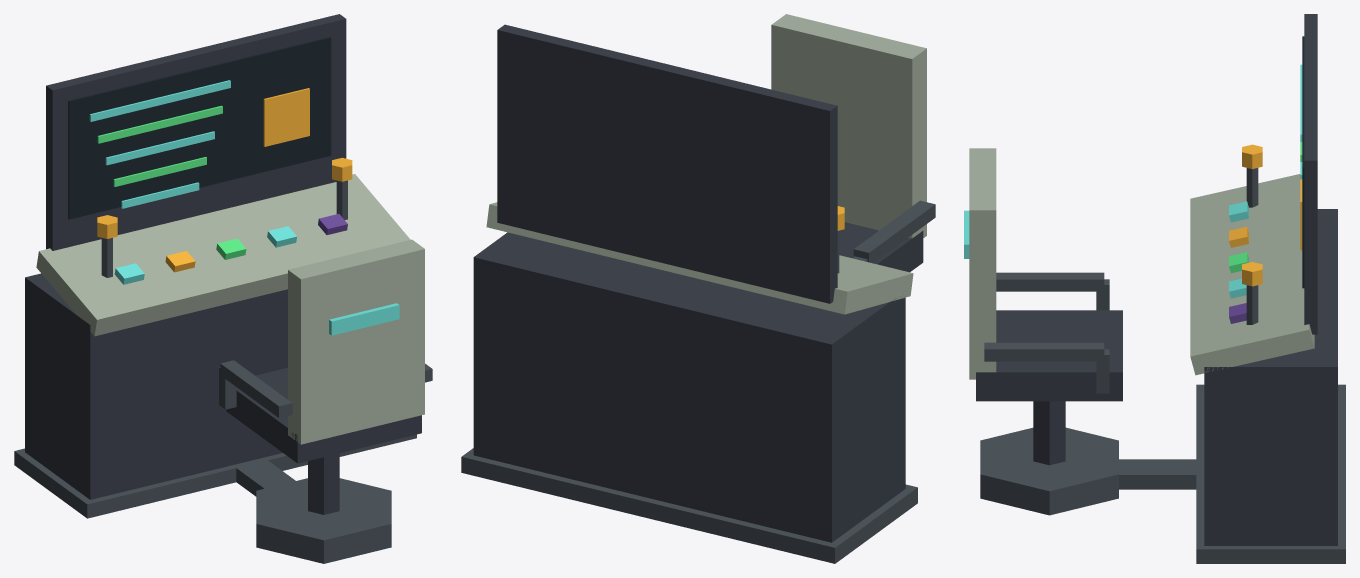
File: GV_ShipHelm_01.glb
3 views of the same model, side by side, from view 1: azimuth 30°, elevation 25°; view 2: azimuth 150°, elevation 25°; view 3: azimuth 270°, elevation 25° (orthographic). The views are drawn at different scales.
Parts seen in each view (by area): view 1: GV_ShipHelm_01; view 2: GV_ShipHelm_01; view 3: GV_ShipHelm_01.
Part boxes in pixels (<box>): GV_ShipHelm_01: <box>14,14,432,563</box>; GV_ShipHelm_01: <box>461,14,935,563</box>; GV_ShipHelm_01: <box>964,14,1345,563</box>.
Bounding box in the file's own units: 1.46 × 1.63 × 1.43.
Materials: 1 (1 with a texture image).
